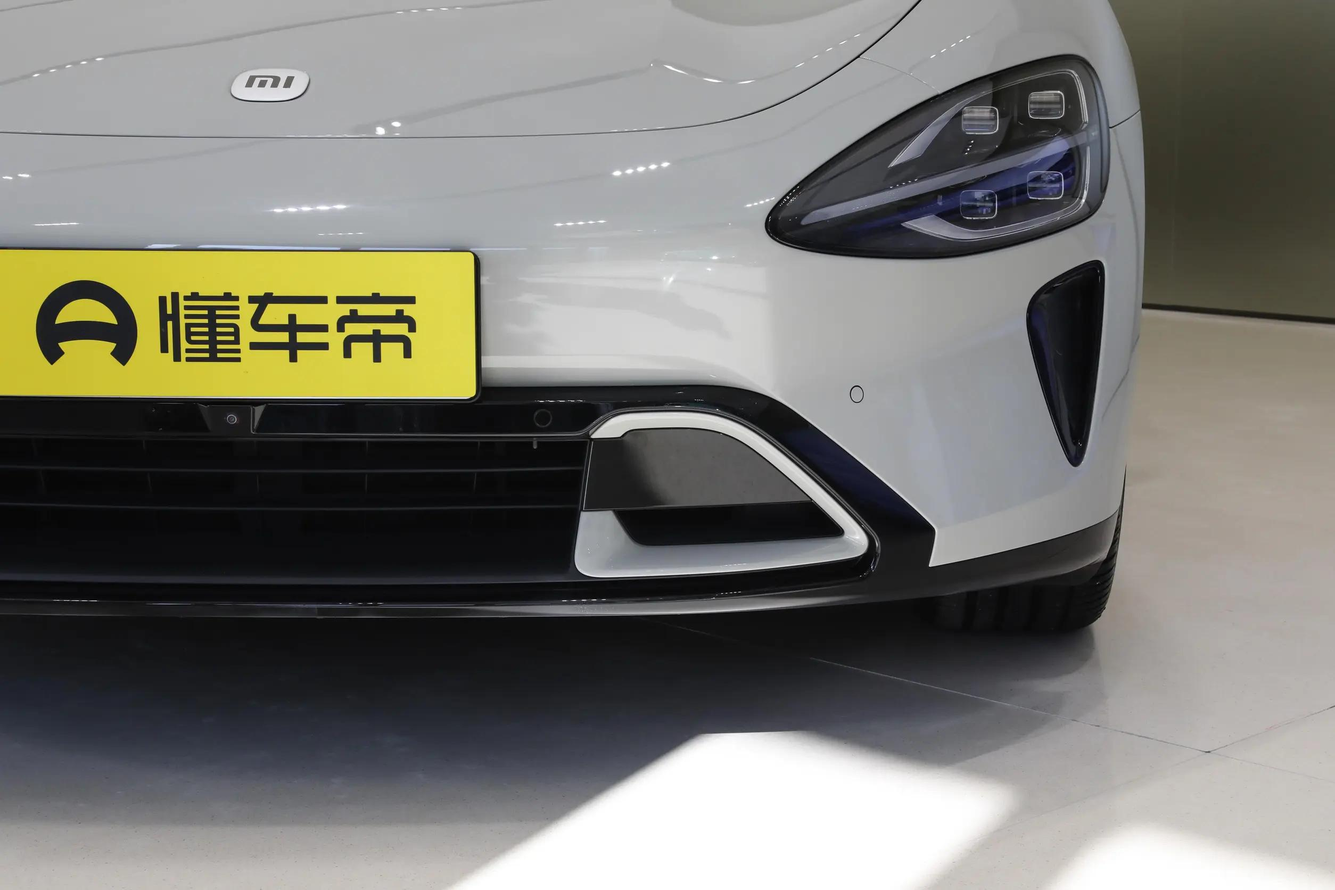XIAOMI: (231, 68, 310, 101)
